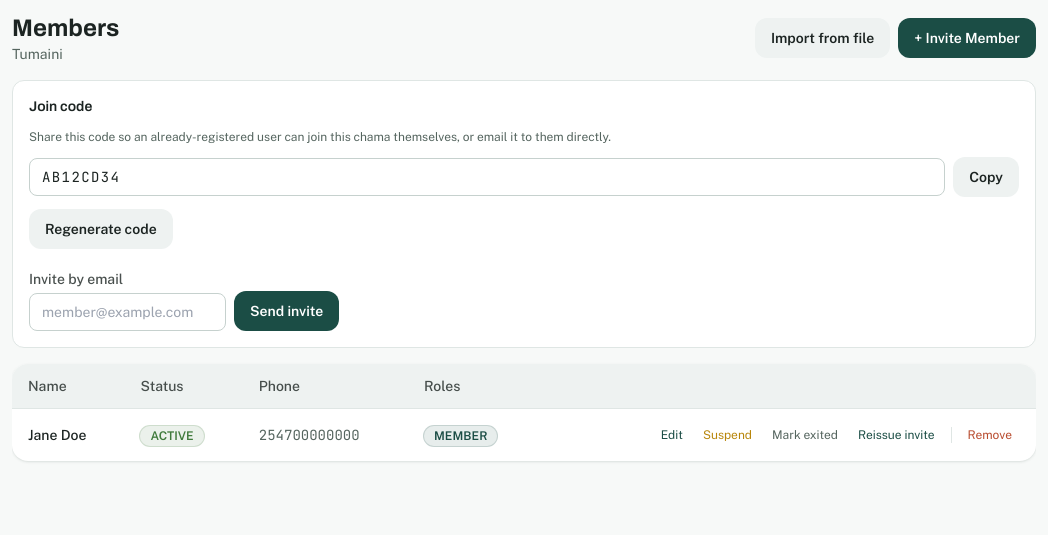
Test case: MembersPage › shows the backend error message when updating a member status fails
Expected: the text "Jane Doe" is shown, [28,427,86,443]
Click the button "Suspend": (727, 435) [695,421,760,449]
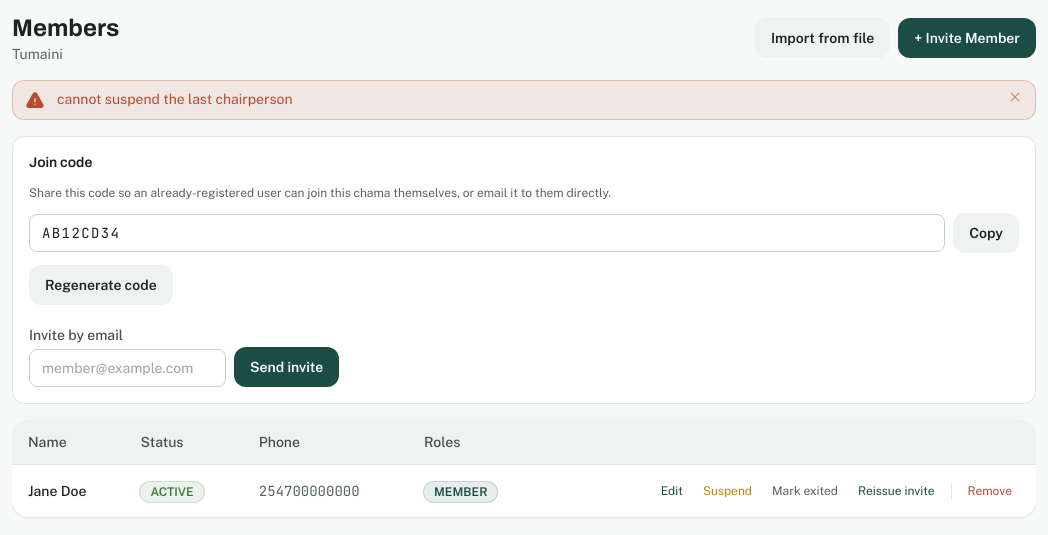
Expected: the text "cannot suspend the last chairperson" is shown, [57,91,293,107]
